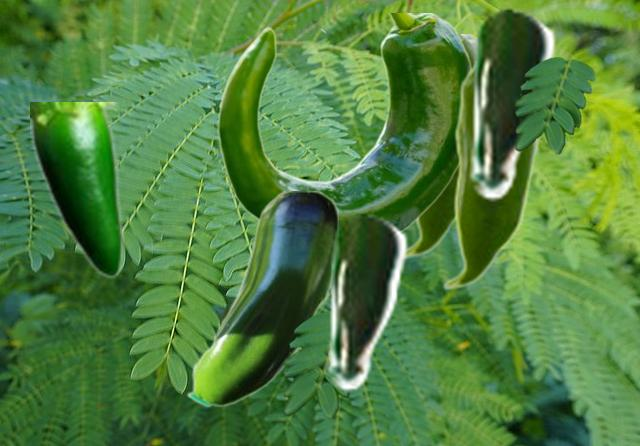green_chili: (217, 13, 472, 229), (185, 191, 337, 407), (441, 63, 538, 290), (464, 6, 556, 200), (30, 102, 123, 278), (322, 211, 408, 391), (408, 34, 475, 259)
